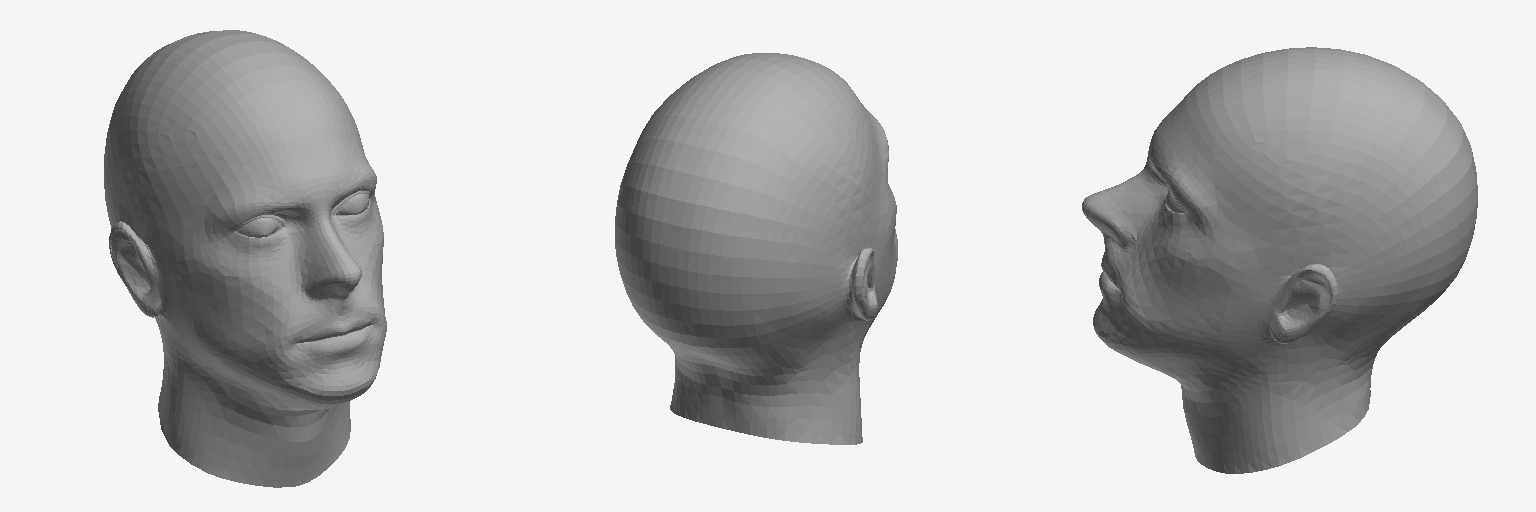
Rendered from house.obj.
The picture shows the model from 3 angles: view 1: azimuth 30°, elevation 25°; view 2: azimuth 150°, elevation 25°; view 3: azimuth 270°, elevation 25°; orthographic projection.
Visible parts, largest first — view 1: FaceGen; view 2: FaceGen; view 3: FaceGen.
Boxes of the visible parts, x1,y1,x2,y2 form: FaceGen: [104, 30, 386, 487]; FaceGen: [615, 53, 897, 444]; FaceGen: [1082, 47, 1477, 473].
Size of the model in its own units: 178 by 279 by 252.